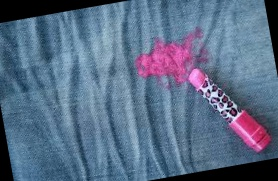lipstick: (133, 34, 216, 91), (172, 26, 208, 55)
